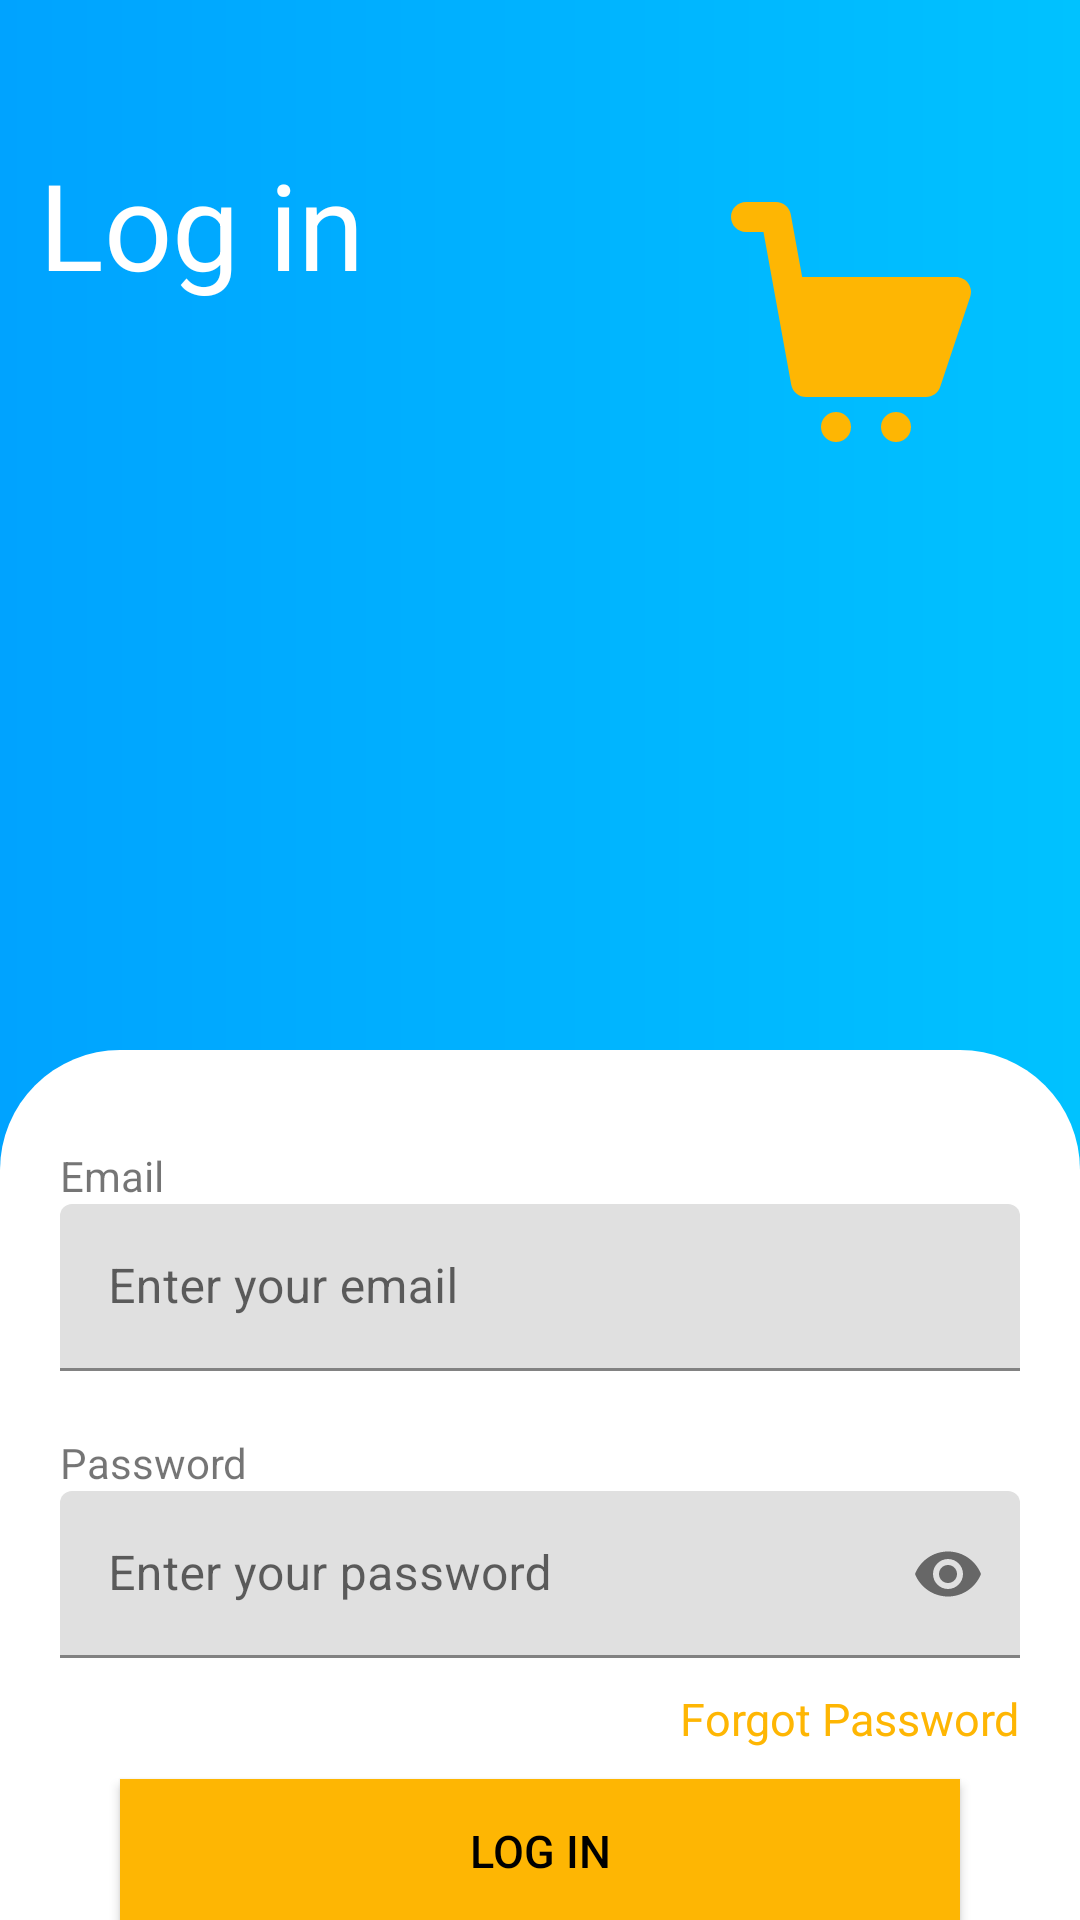

Icons on this 1080 × 1920 Android screen, each with its box as (x1, y1, x2, y2):
login shopping cart: (731, 202, 971, 442)
